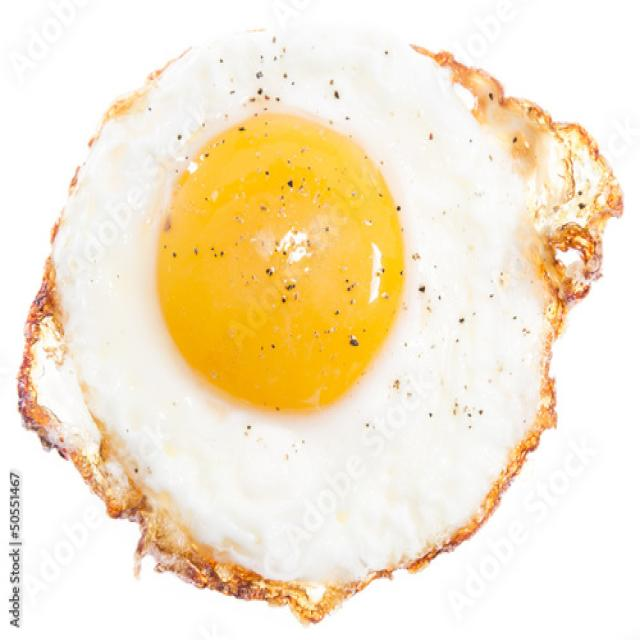Egg: (0, 2, 640, 638)
